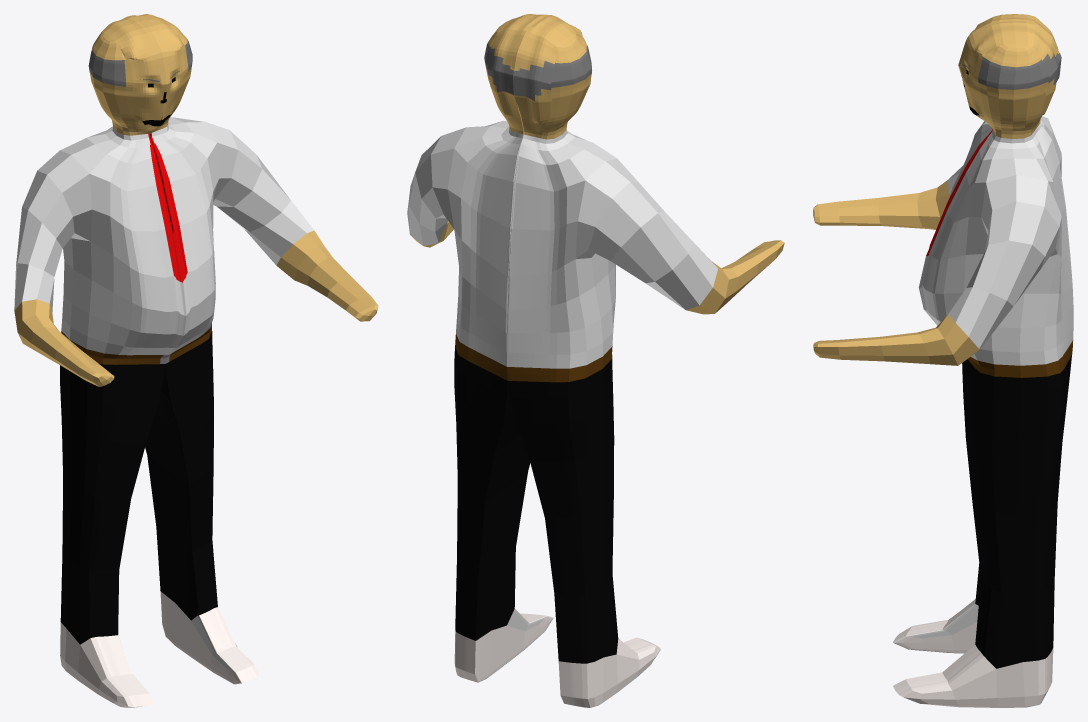
Rendered from Dad.fbx.
3 renders of one model, left to right at view 1: azimuth 30°, elevation 25°; view 2: azimuth 150°, elevation 25°; view 3: azimuth 270°, elevation 25°, orthographic. The views are drawn at different scales.
Parts seen in each view (by area): view 1: Cube; view 2: Cube; view 3: Cube.
Boxes of the visible parts, x1=… form: Cube: x1=14, y1=14, x2=378, y2=707; Cube: x1=407, y1=14, x2=784, y2=707; Cube: x1=813, y1=14, x2=1073, y2=707.
Bounding box in the file's own units: 403 × 813 × 293.
